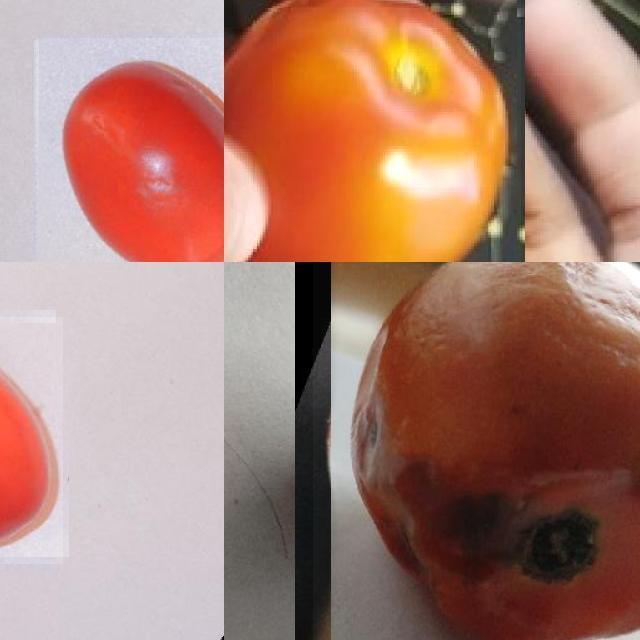Fresh Tomato: (224, 0, 521, 262), (36, 37, 224, 262), (0, 316, 62, 564)
Rotten Tomato: (312, 262, 640, 640)
